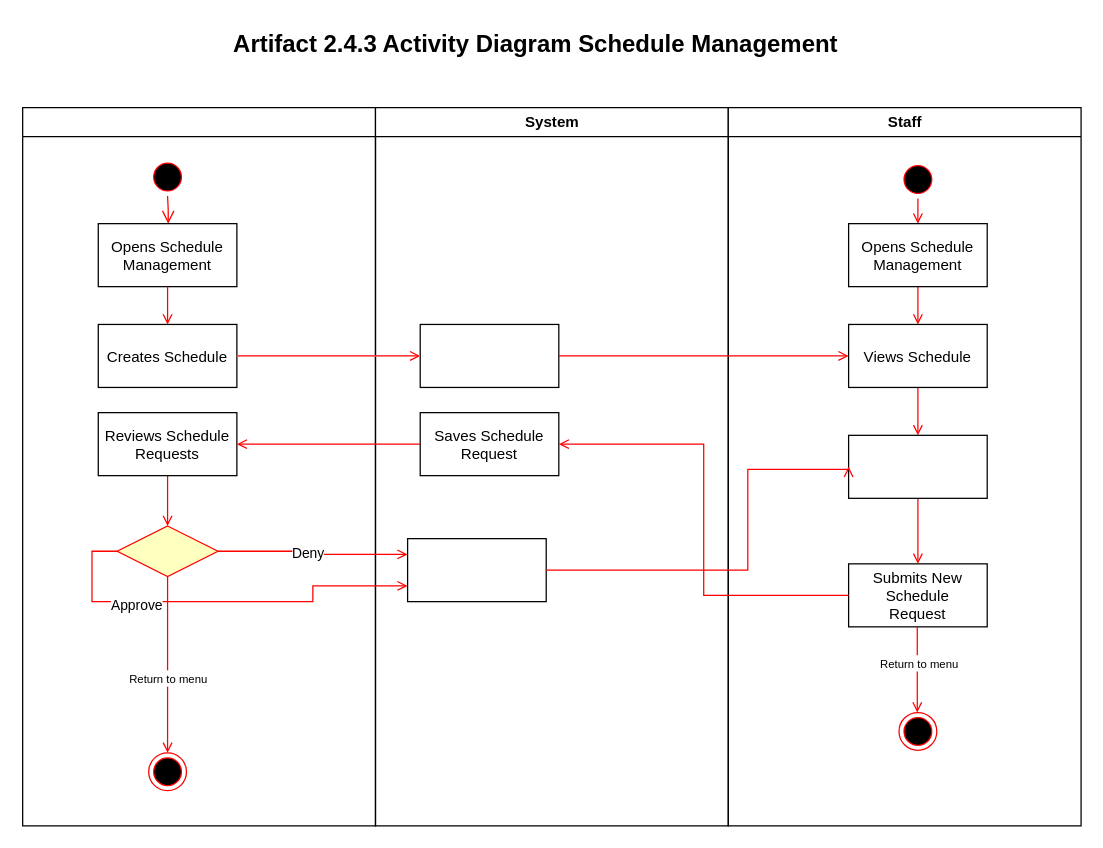
This 1103x848 diagram has some shape labels left out. The box of each missing label's shape, as (x1, y1, x2, y2) in pixels:
Manager: (21, 106, 375, 826)
Saves Schedule: (419, 323, 559, 387)
Update Status Request Status: (406, 537, 546, 602)
Views Schedule Requests: (847, 434, 987, 498)
